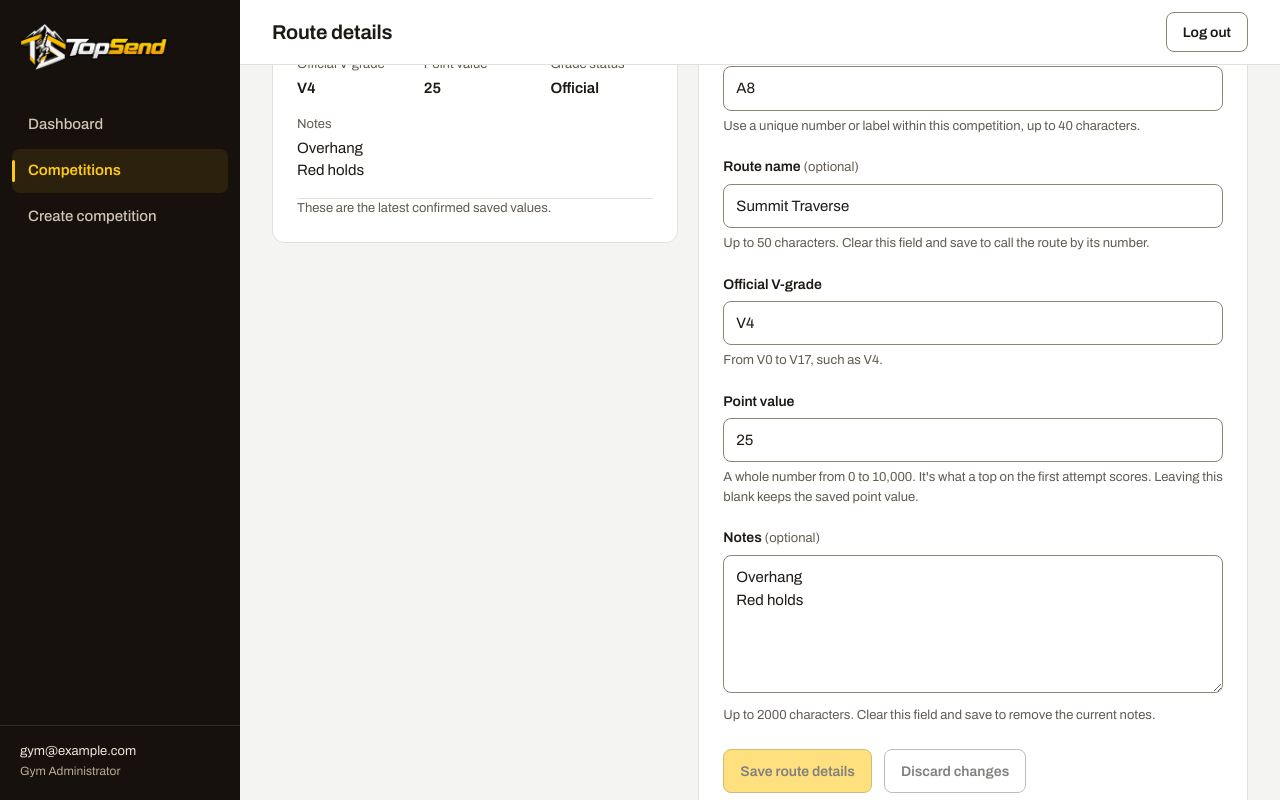
Test case: US-017 #79/#80 route details and permitted editing › saves whole point value 0 without changing the official grade
This screenshot has width=1280, height=800.
(page scrolled)
Replace the text in the number field labelled "Point value" with "0" at (973, 440), box top-left (723, 418), bottom-right (1223, 462)
(page scrolled)
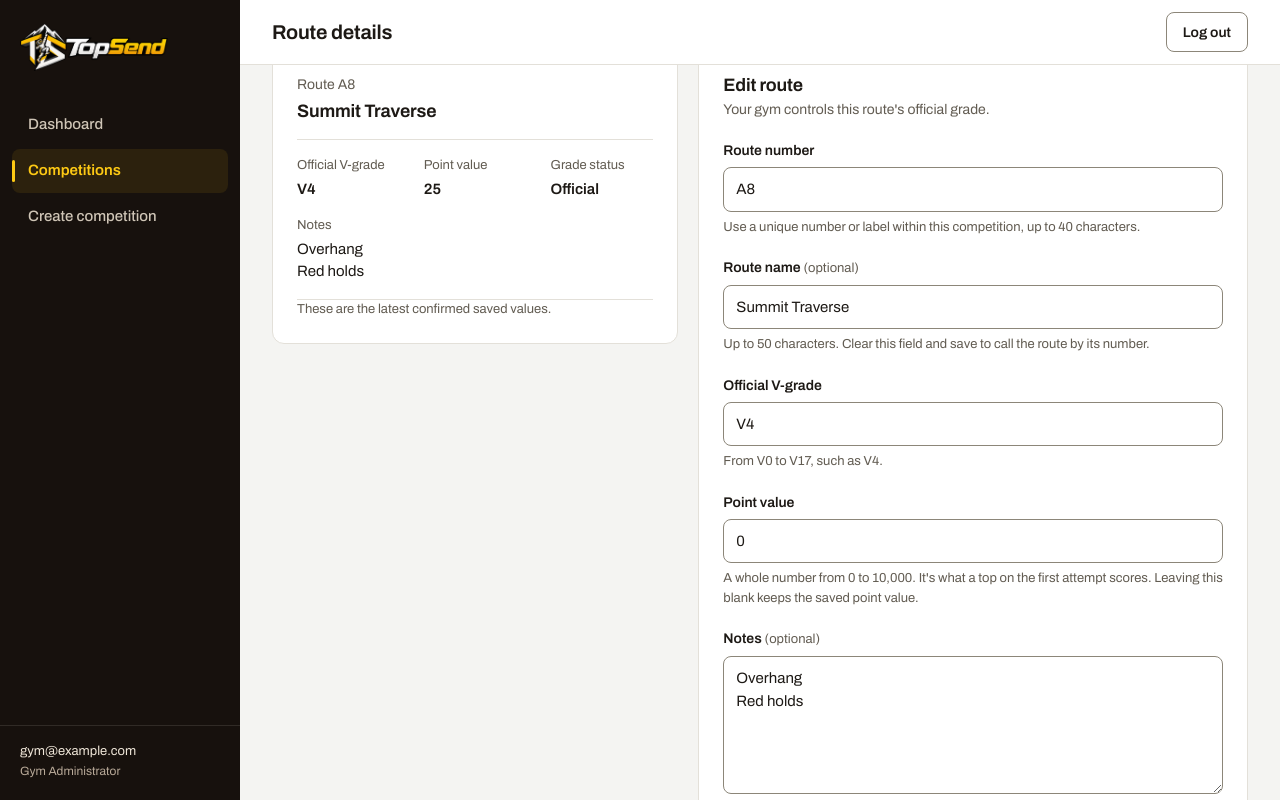
Submit the form named "Edit route details"
(page scrolled)
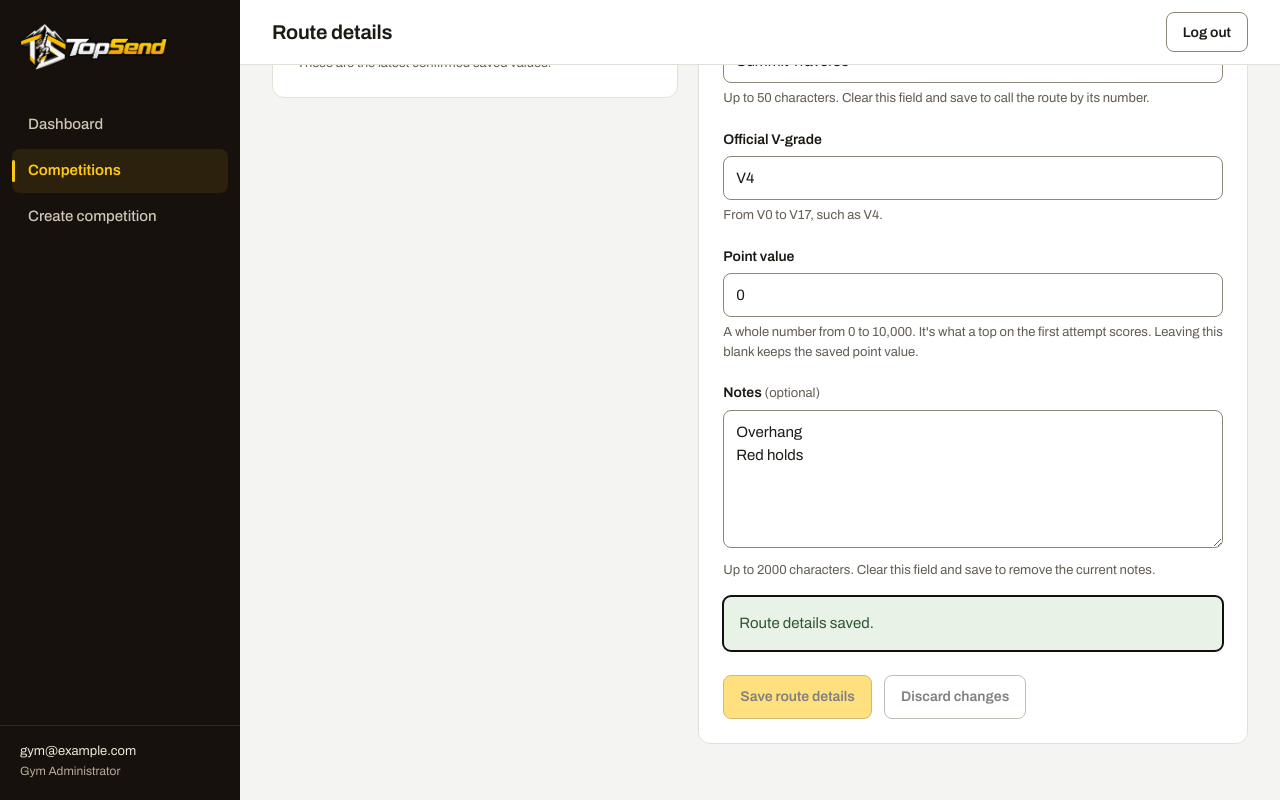
Result: the text "Route details saved." is shown at top-left (723, 596), bottom-right (1223, 651)
